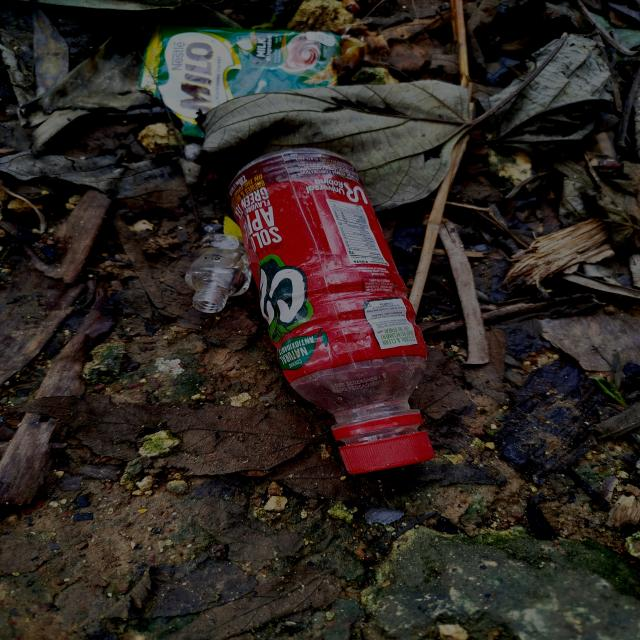plastic: (209, 136, 482, 489)
residual: (124, 11, 347, 140)
